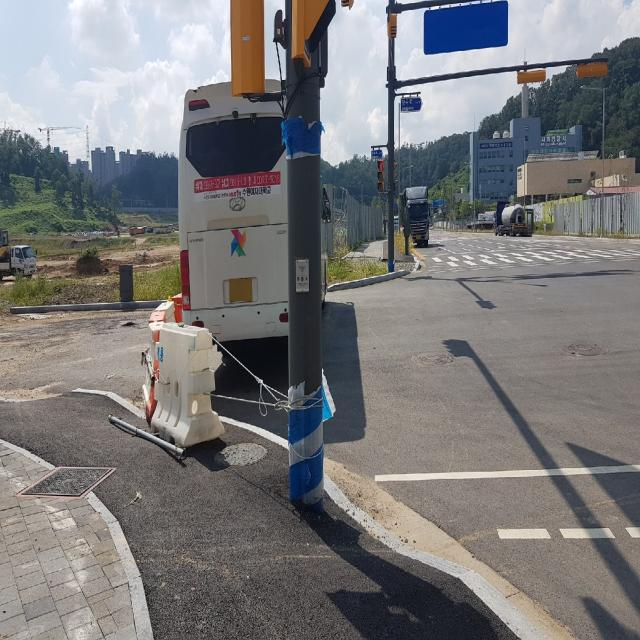빨간불: (377, 158, 385, 194)
횡단보도: (421, 244, 640, 275)
